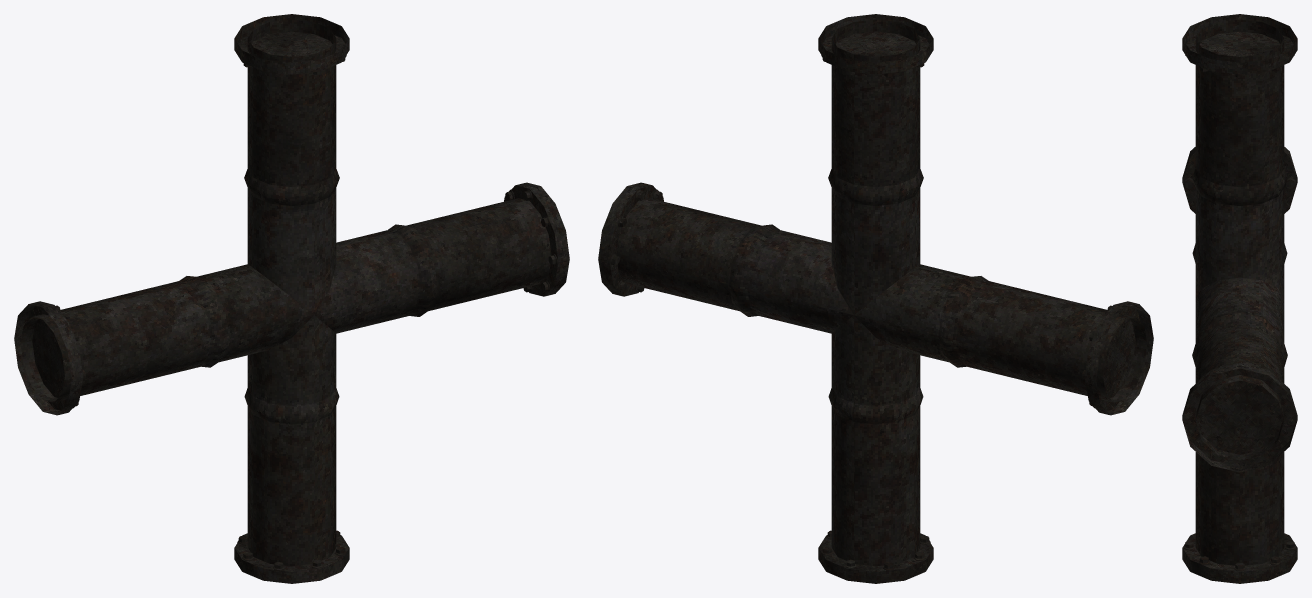
The model's file is pipe_1_cross.glb.
The picture shows the model from 3 angles, left to right: view 1: azimuth 30°, elevation 25°; view 2: azimuth 150°, elevation 25°; view 3: azimuth 270°, elevation 25°; orthographic projection.
Parts seen in each view (by area): view 1: pipe_1_cross; view 2: pipe_1_cross; view 3: pipe_1_cross.
Boxes of the visible parts, x1,y1,x2,y2 form: pipe_1_cross: [14, 14, 569, 583]; pipe_1_cross: [598, 14, 1153, 583]; pipe_1_cross: [1182, 14, 1297, 583].
Size of the model in its own units: 1.3 by 1.3 by 0.26.
Materials: 1 (1 with a texture image).
